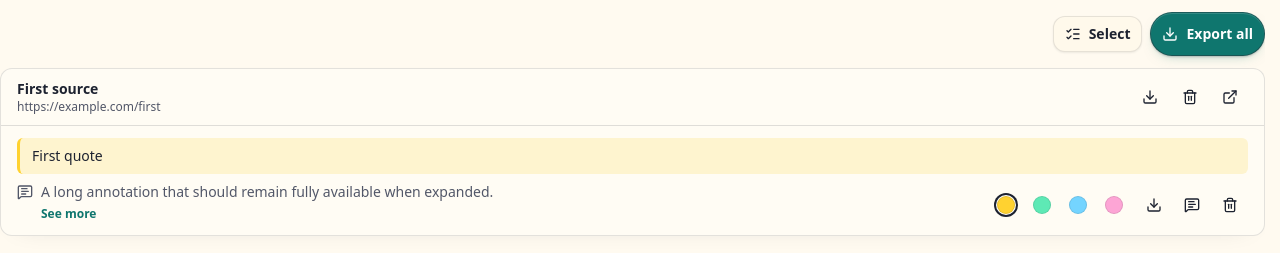
ReadspaceHighlights › limits overflowing annotations to three lines and lets the user expand them
Click the button "See more" at coordinates (69, 214), box [41,206,96,222]
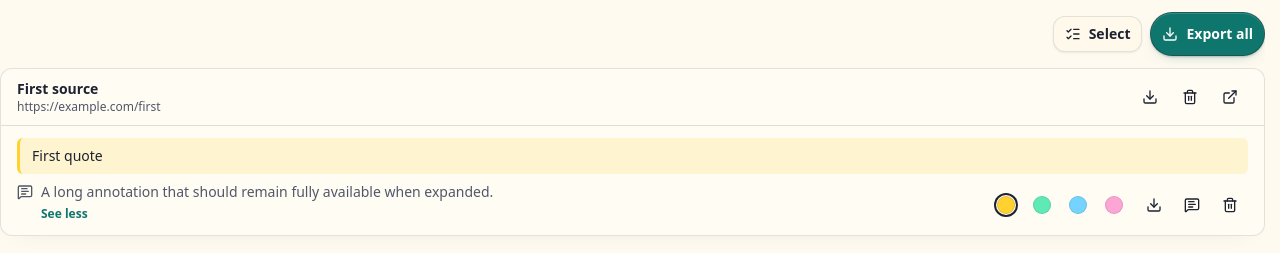
Expected: the text "A long annotation that should remain fully available when expanded." is shown, [41,182,493,201]
Expected: the button "See less" is shown, [41,206,88,222]
Expected: the button "See less" is expanded, [41,206,88,222]
